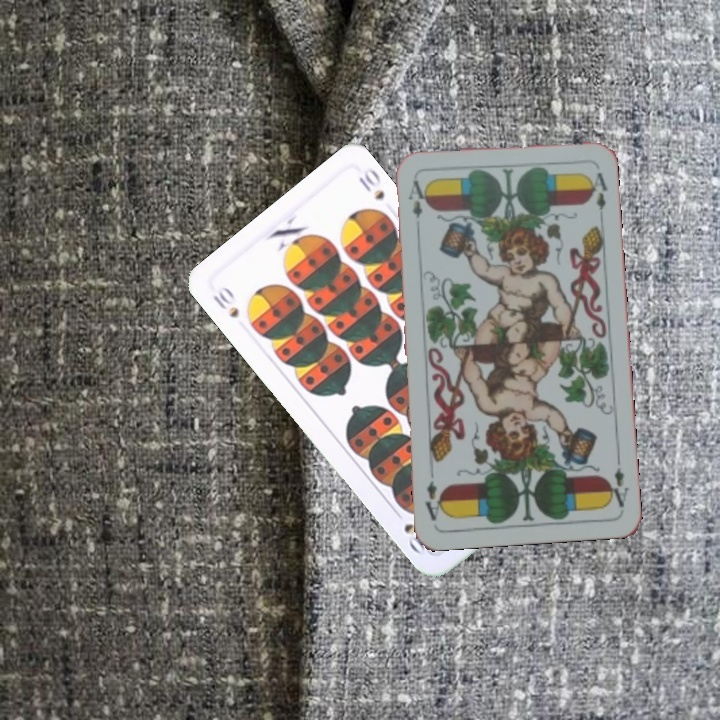EA: (604, 453, 632, 510), (404, 176, 425, 235)
S10: (208, 282, 242, 321)
